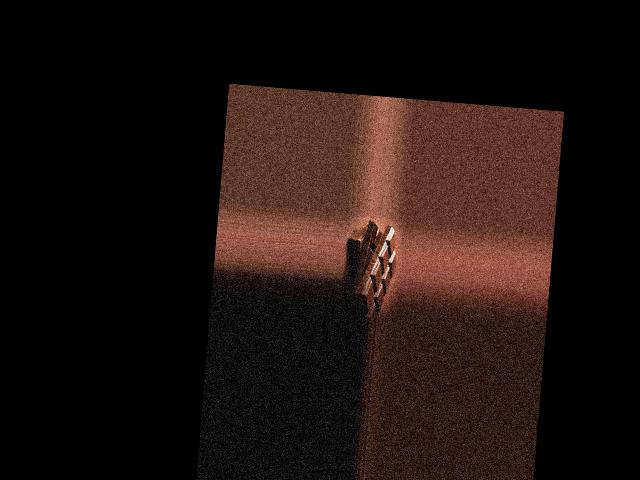chocolate: (348, 220, 398, 316)
